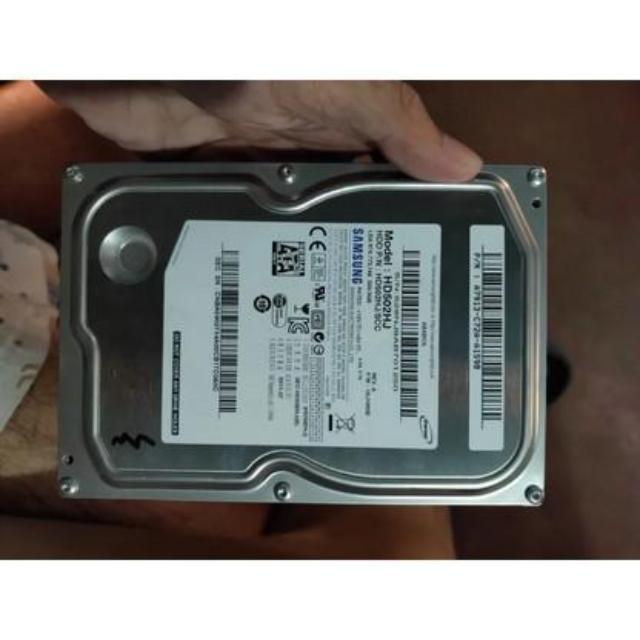DISK: (54, 158, 552, 516)
